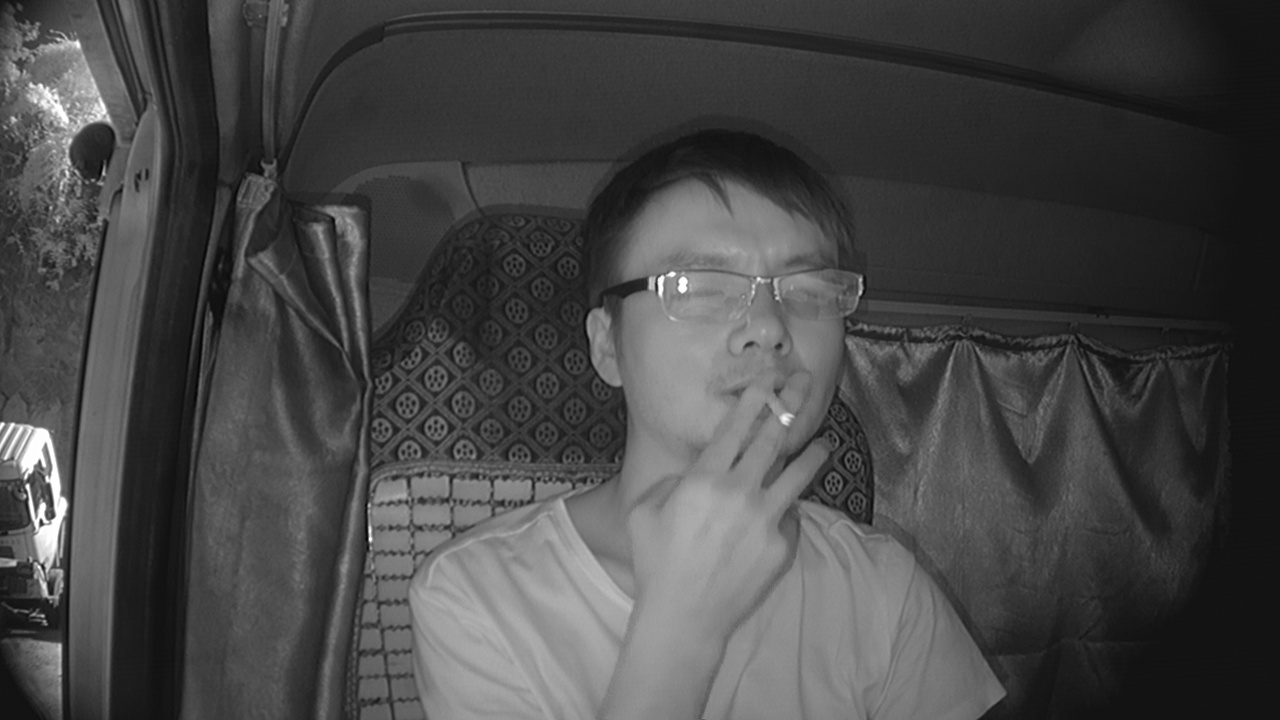hand: (679, 374, 824, 574)
